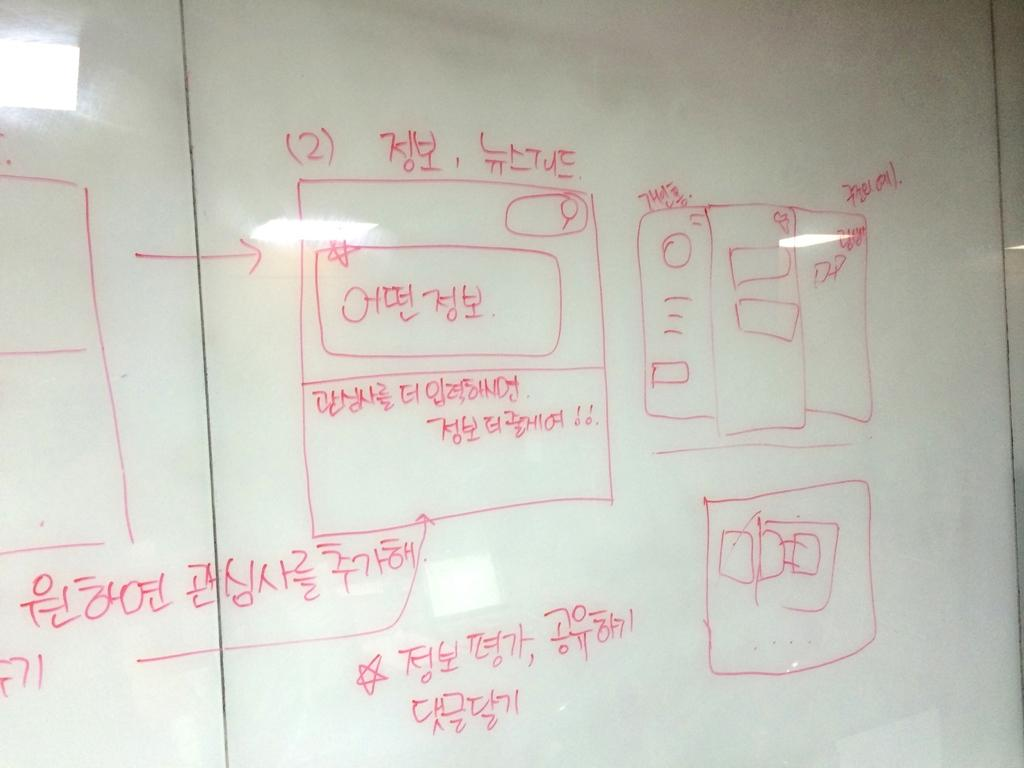Luggage-and-bags: (635, 199, 872, 453)
